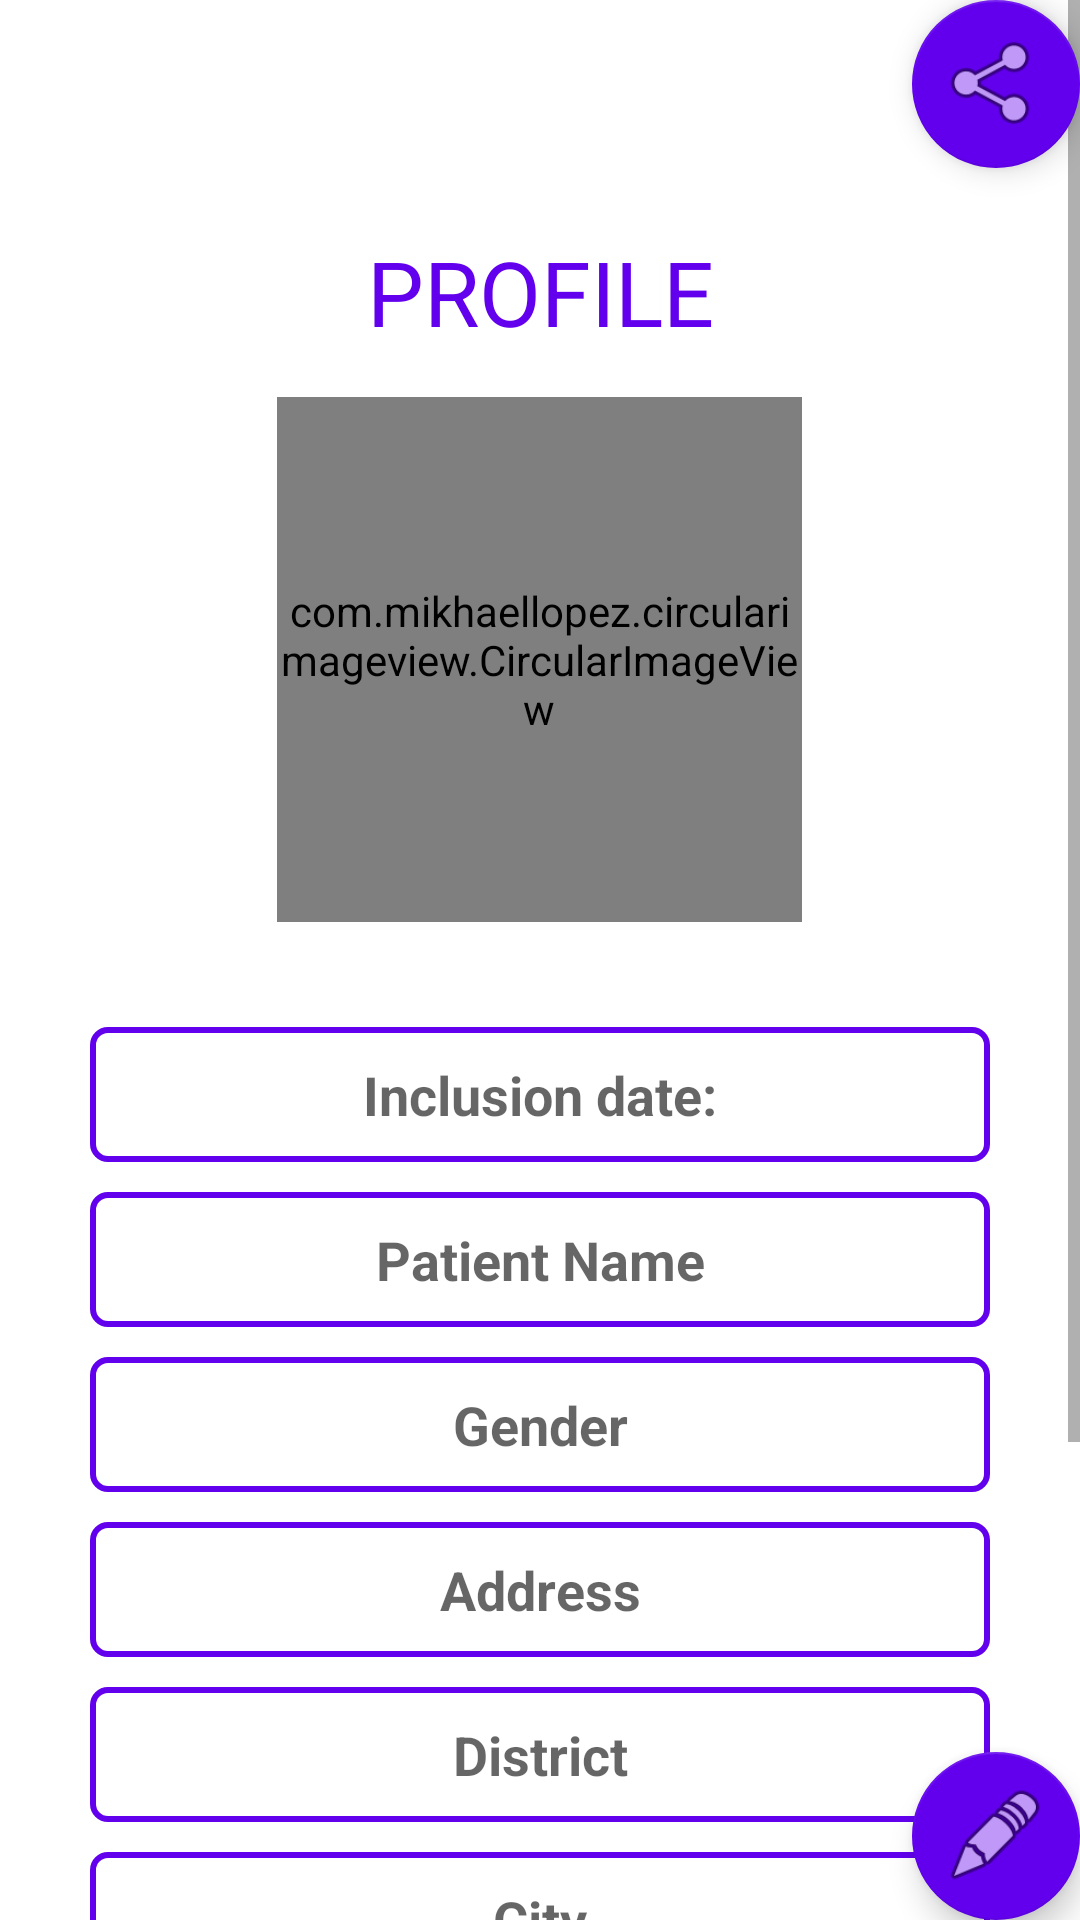

Icon click points for this 1080px×1920px phone screenshot, format [x,y]:
edit: [996,1836]
share: [996,84]
